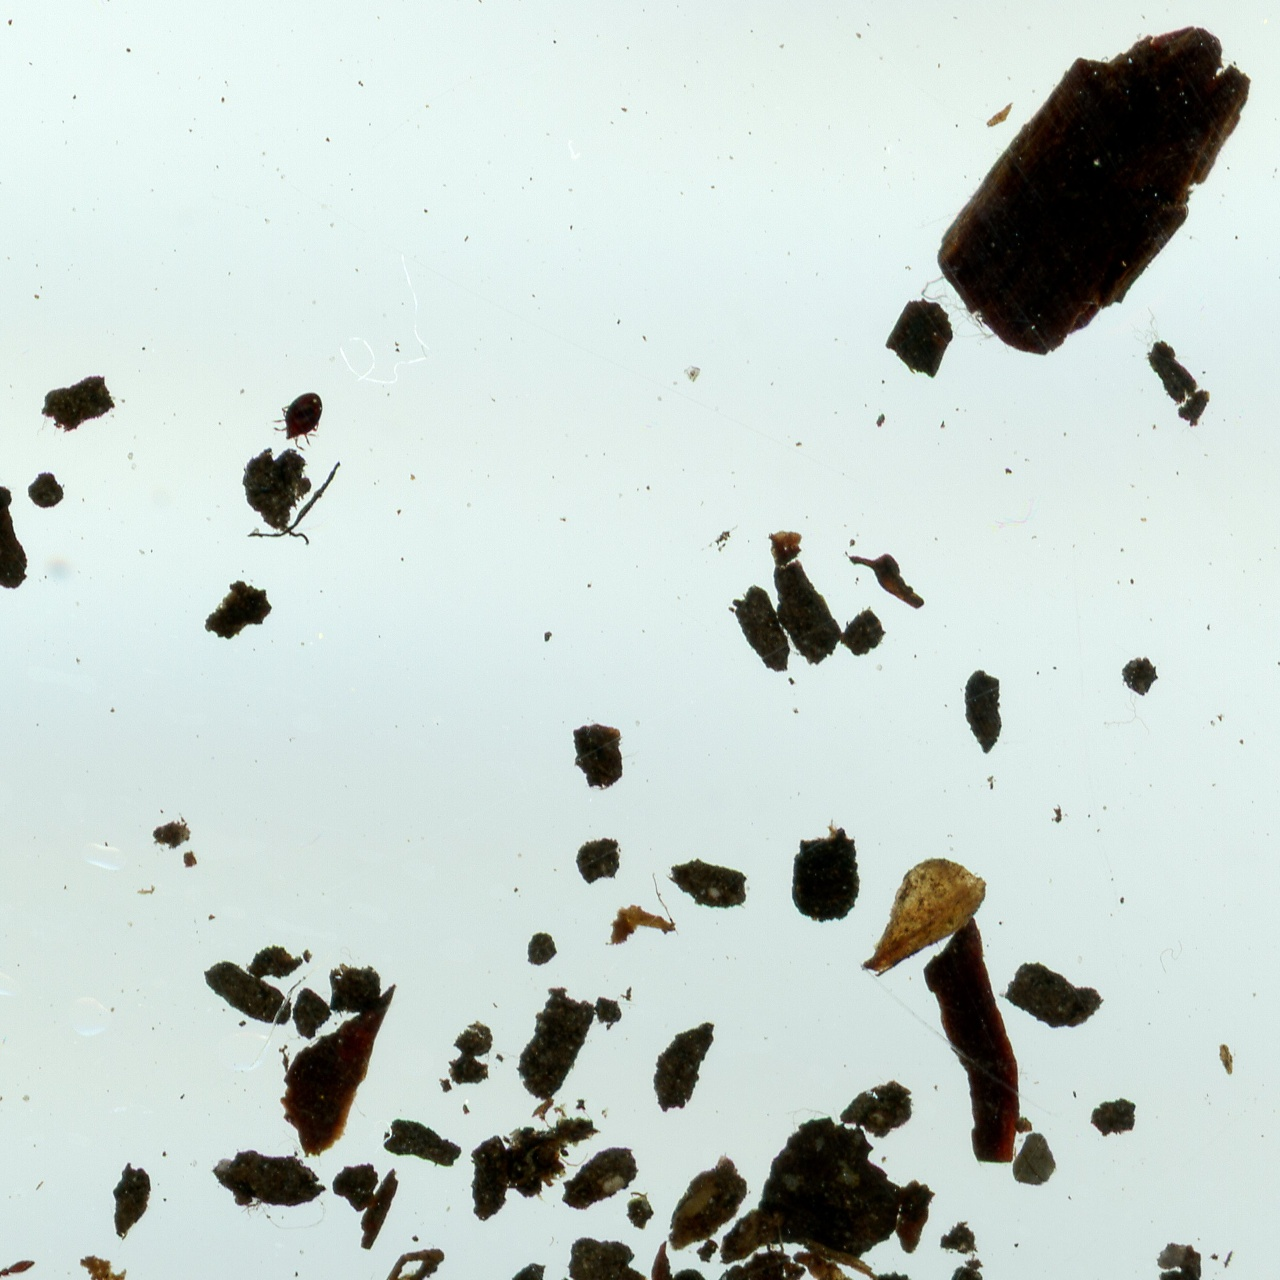arthropod: (0, 967, 57, 1280), (270, 388, 327, 454)
